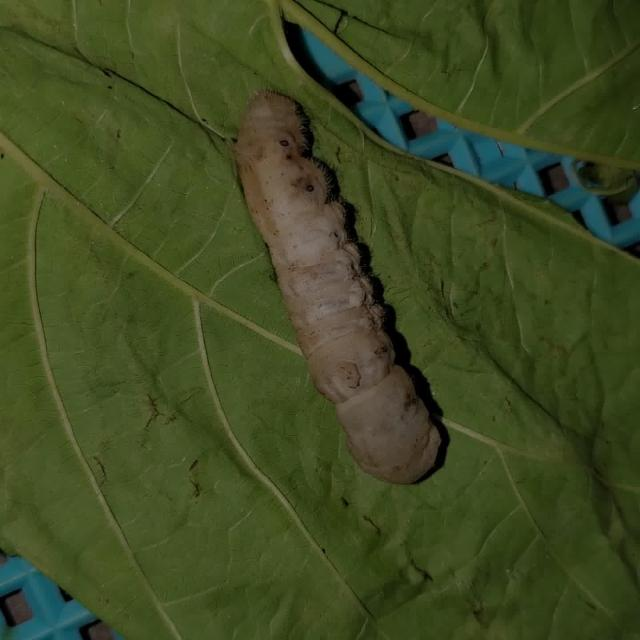Grasserie: (215, 74, 468, 488)
